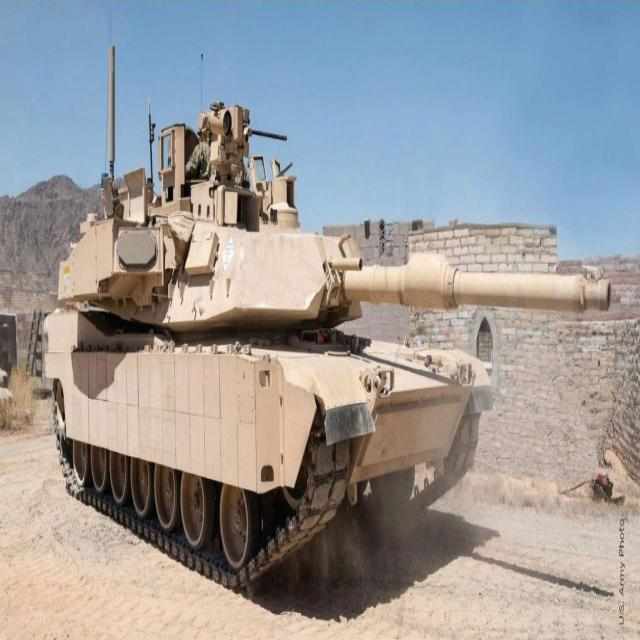MIL_MBT: (66, 152, 570, 555)
